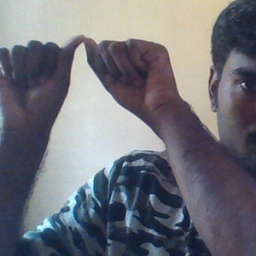A: (2, 24, 178, 130)
